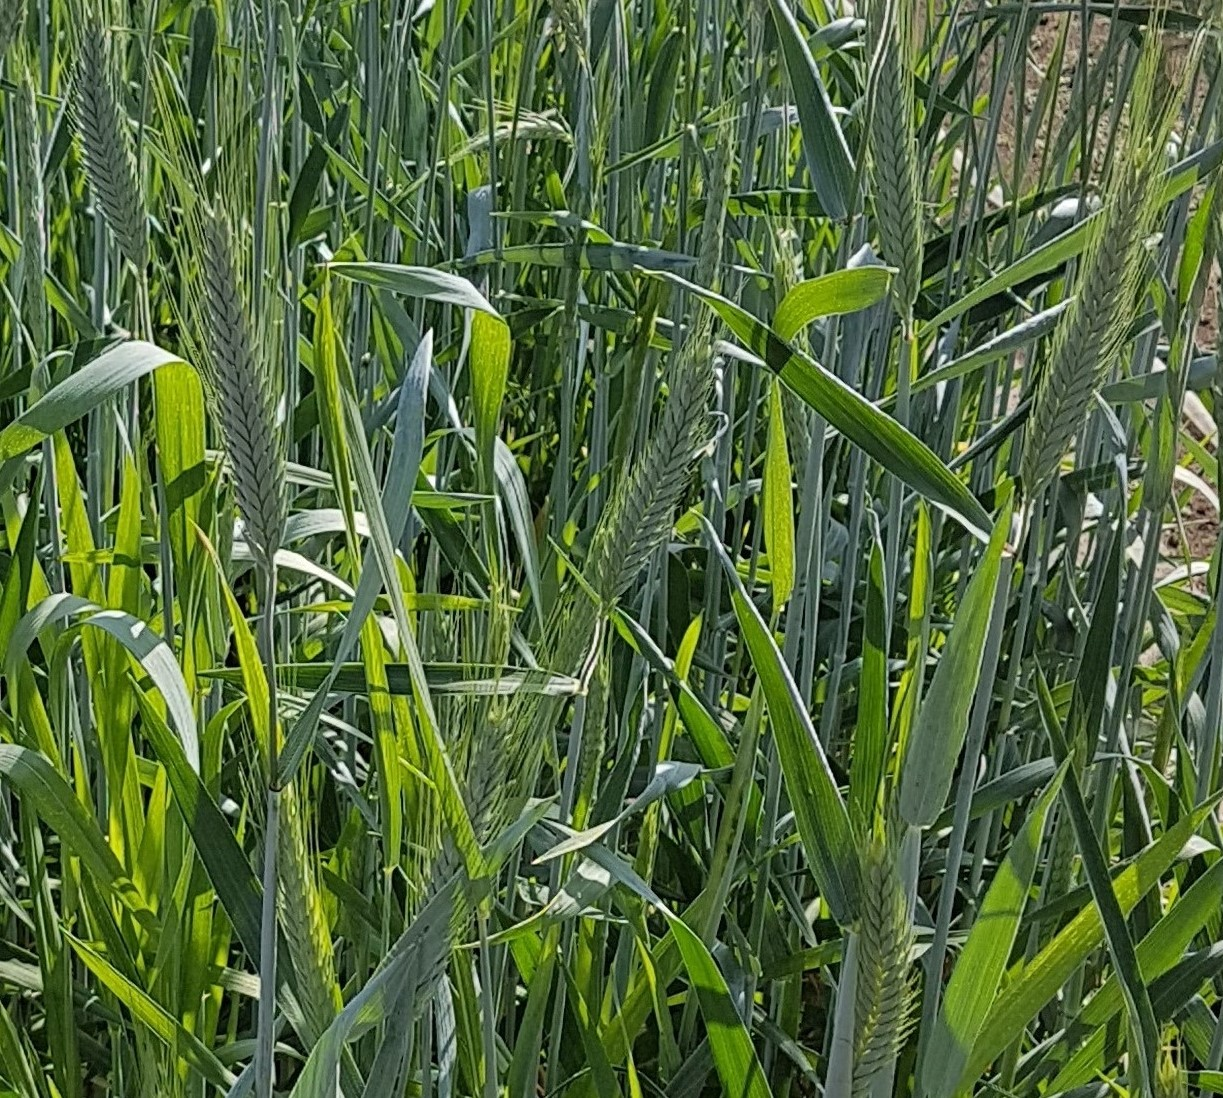Healthy Wheat: (184, 195, 303, 555), (1024, 162, 1160, 472), (589, 352, 717, 602), (67, 8, 161, 265), (854, 32, 943, 293)
